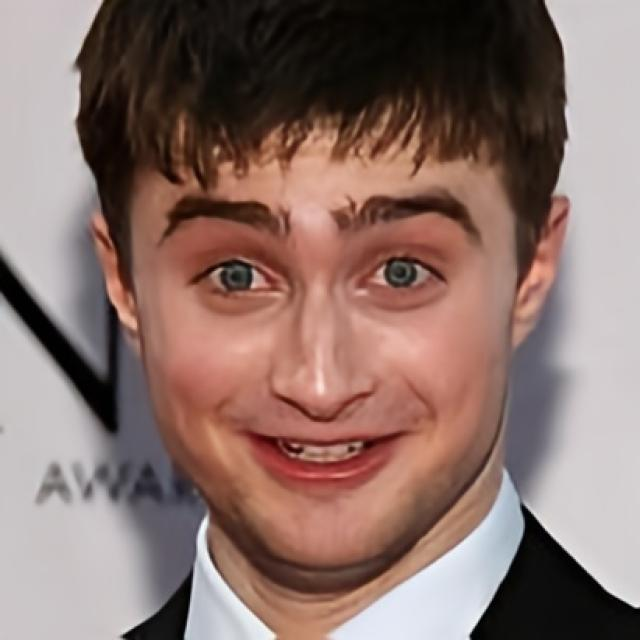surprise: (129, 68, 516, 573)
